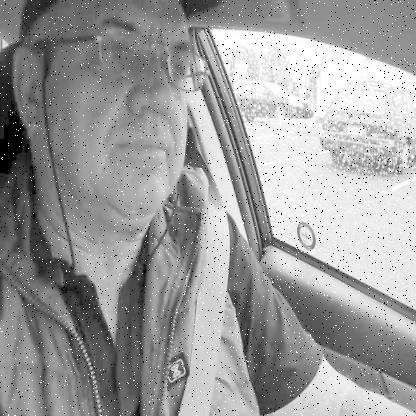seatbelt: (9, 0, 233, 416)
